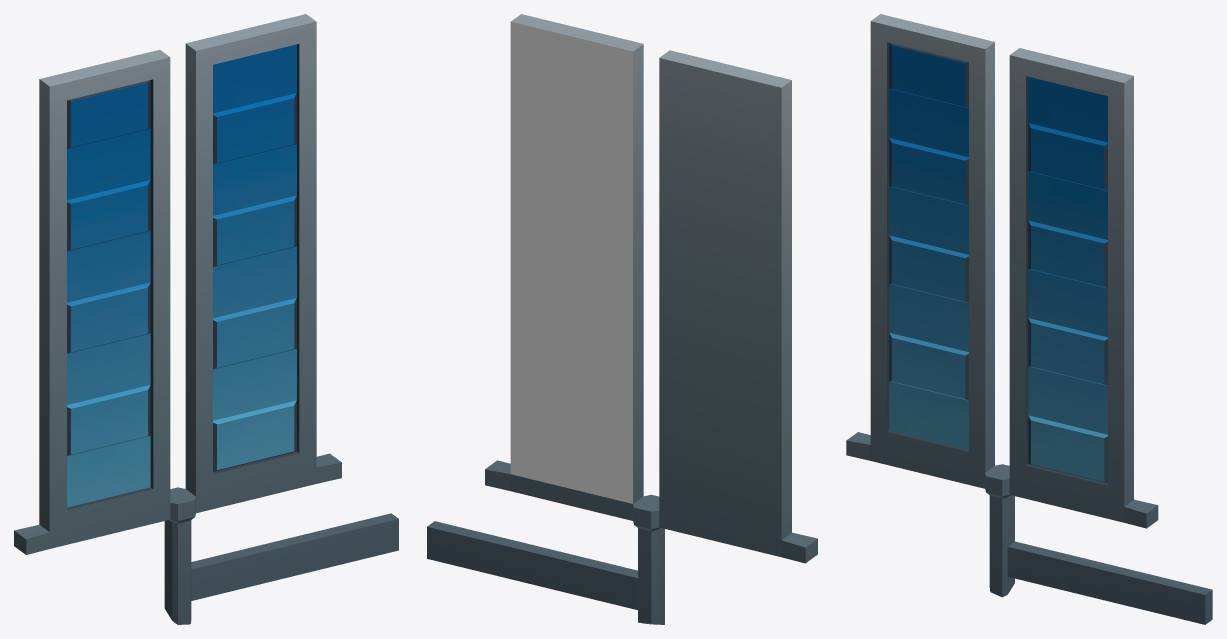
Rendered from SpacePart_Cube_025.fbx.
3 renders of one model, left to right at view 1: azimuth 30°, elevation 25°; view 2: azimuth 150°, elevation 25°; view 3: azimuth 330°, elevation 25°, orthographic. The views are drawn at different scales.
Parts seen in each view (by area): view 1: Cube.025; view 2: Cube.025; view 3: Cube.025.
Boxes of the visible parts, box(x1,y1,x2,y2) form: Cube.025: box(14, 14, 398, 624); Cube.025: box(427, 14, 817, 624); Cube.025: box(846, 14, 1212, 624).
Bounding box in the file's own units: 3605 × 5245 × 288.
